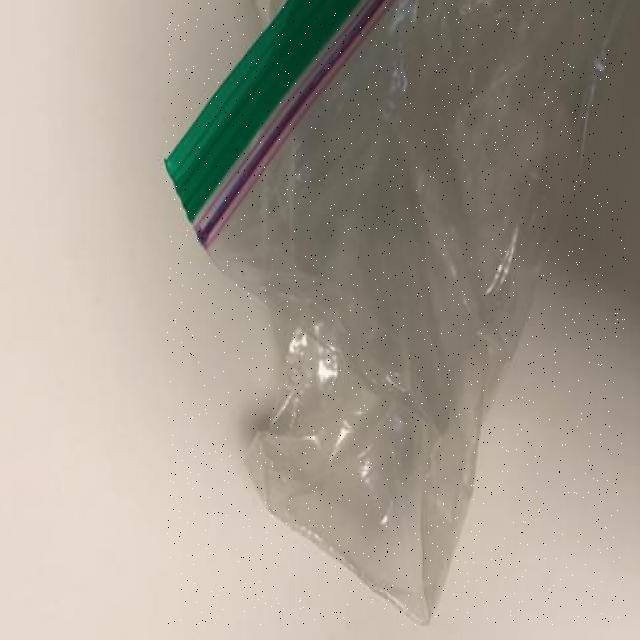plastic: (166, 1, 626, 624)
